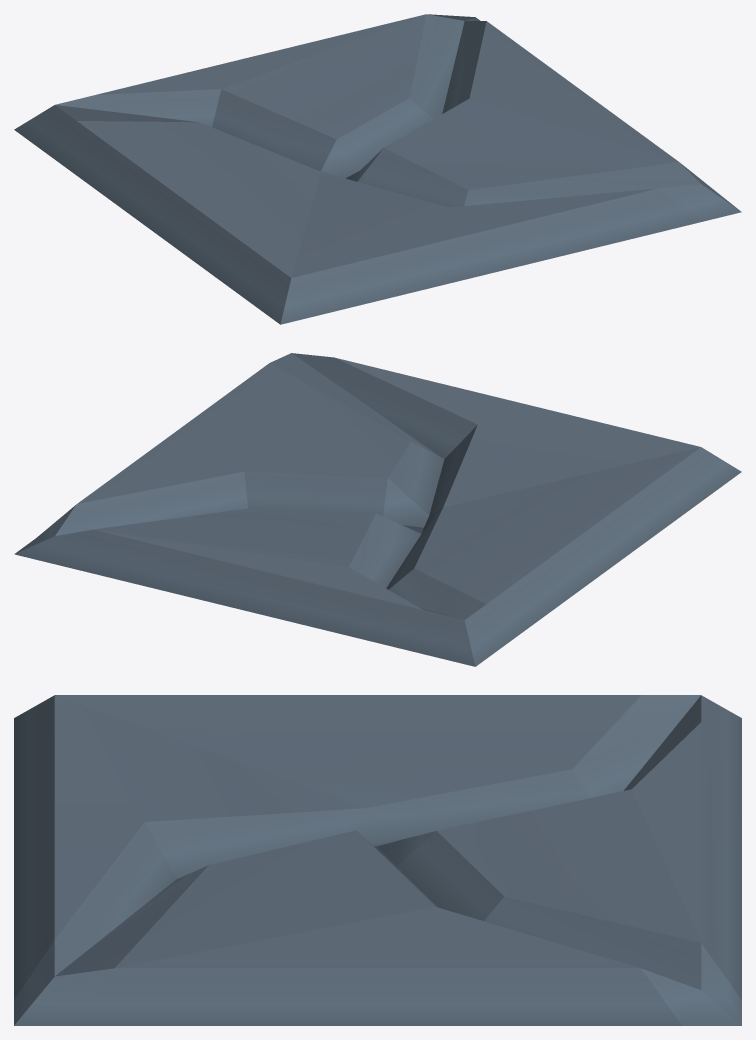
The model's file is Floor_tile_cracked_mid_A.fbx.
3 renders of one model, top to bottom at view 1: azimuth 30°, elevation 25°; view 2: azimuth 150°, elevation 25°; view 3: azimuth 270°, elevation 25°, orthographic. The views are drawn at different scales.
Parts seen in each view (by area): view 1: Floor_tile_cracked_mid_A; view 2: Floor_tile_cracked_mid_A; view 3: Floor_tile_cracked_mid_A.
Part boxes in pixels (left/top/right/bottom): Floor_tile_cracked_mid_A: left=14, top=14, right=741, bottom=324; Floor_tile_cracked_mid_A: left=14, top=353, right=741, bottom=666; Floor_tile_cracked_mid_A: left=14, top=695, right=741, bottom=1025.
Bounding box in the file's own units: 100 × 6.82 × 100.
